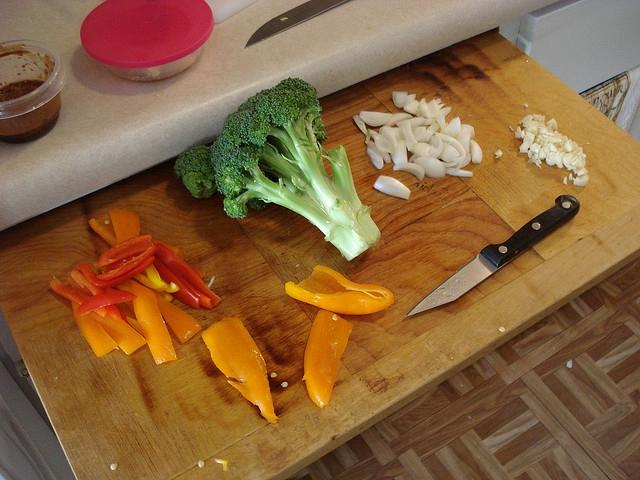bell pepper: (201, 317, 280, 424), (284, 265, 395, 315), (301, 309, 353, 409), (124, 279, 202, 344), (156, 243, 222, 306), (131, 283, 178, 366), (156, 255, 214, 310), (70, 269, 121, 322), (76, 256, 155, 290), (89, 312, 148, 356), (71, 302, 118, 357), (50, 276, 109, 318), (96, 246, 158, 280), (98, 234, 154, 268), (76, 290, 137, 316), (109, 208, 140, 245), (104, 253, 142, 273), (146, 264, 162, 288)
broccoli: (175, 77, 382, 264)
garlic: (546, 156, 556, 166), (552, 141, 564, 148), (534, 144, 542, 154)
